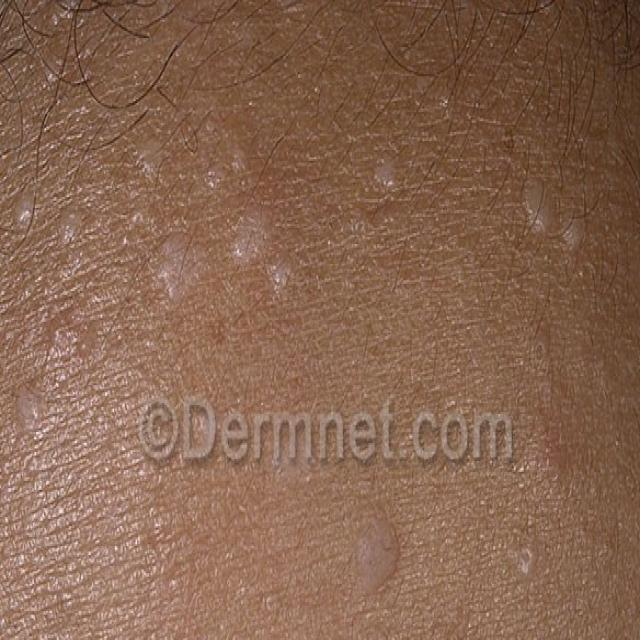Warts: (0, 79, 640, 640)
